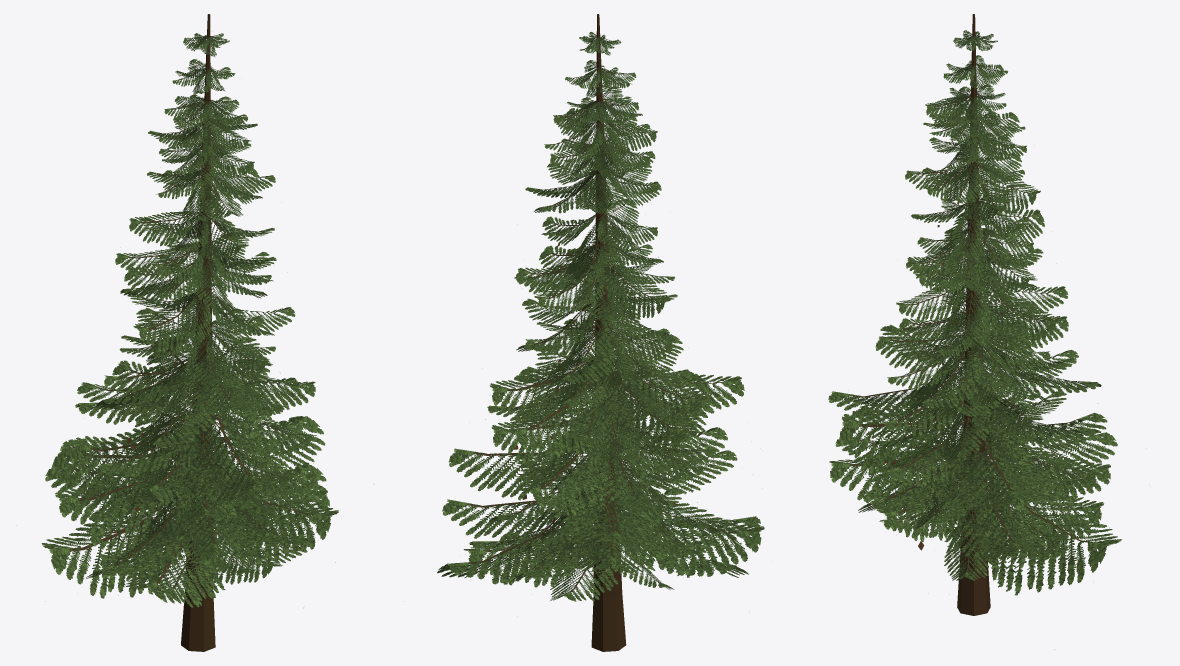
The model's file is alpine-fir.glb.
3 views of the same model, side by side, from view 1: azimuth 30°, elevation 25°; view 2: azimuth 150°, elevation 25°; view 3: azimuth 270°, elevation 25° (orthographic). The views are drawn at different scales.
Visible parts, largest first — view 1: Alpine fir; view 2: Alpine fir; view 3: Alpine fir.
Boxes of the visible parts, x1=… form: Alpine fir: x1=41, y1=14, x2=374, y2=651; Alpine fir: x1=437, y1=14, x2=764, y2=651; Alpine fir: x1=828, y1=14, x2=1121, y2=615.
Size of the model in its own units: 3.4 by 6.53 by 3.43.
Materials: 1 (1 with a texture image).
